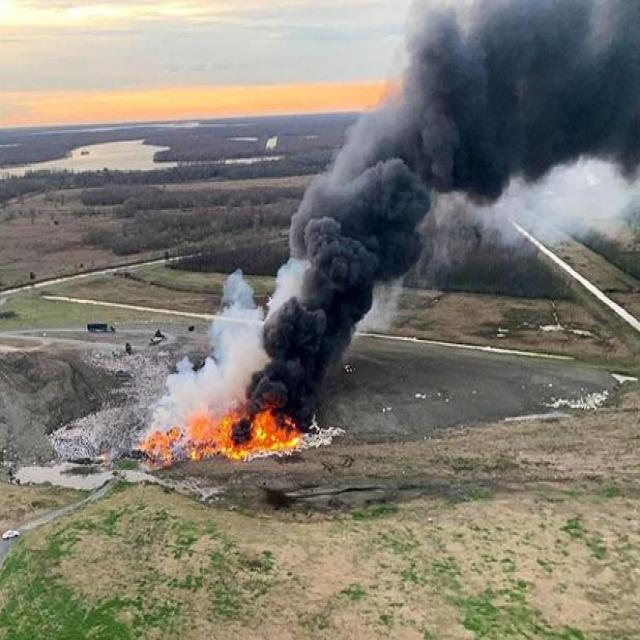Fire: (166, 396, 316, 466)
Smoke: (223, 0, 631, 440)
